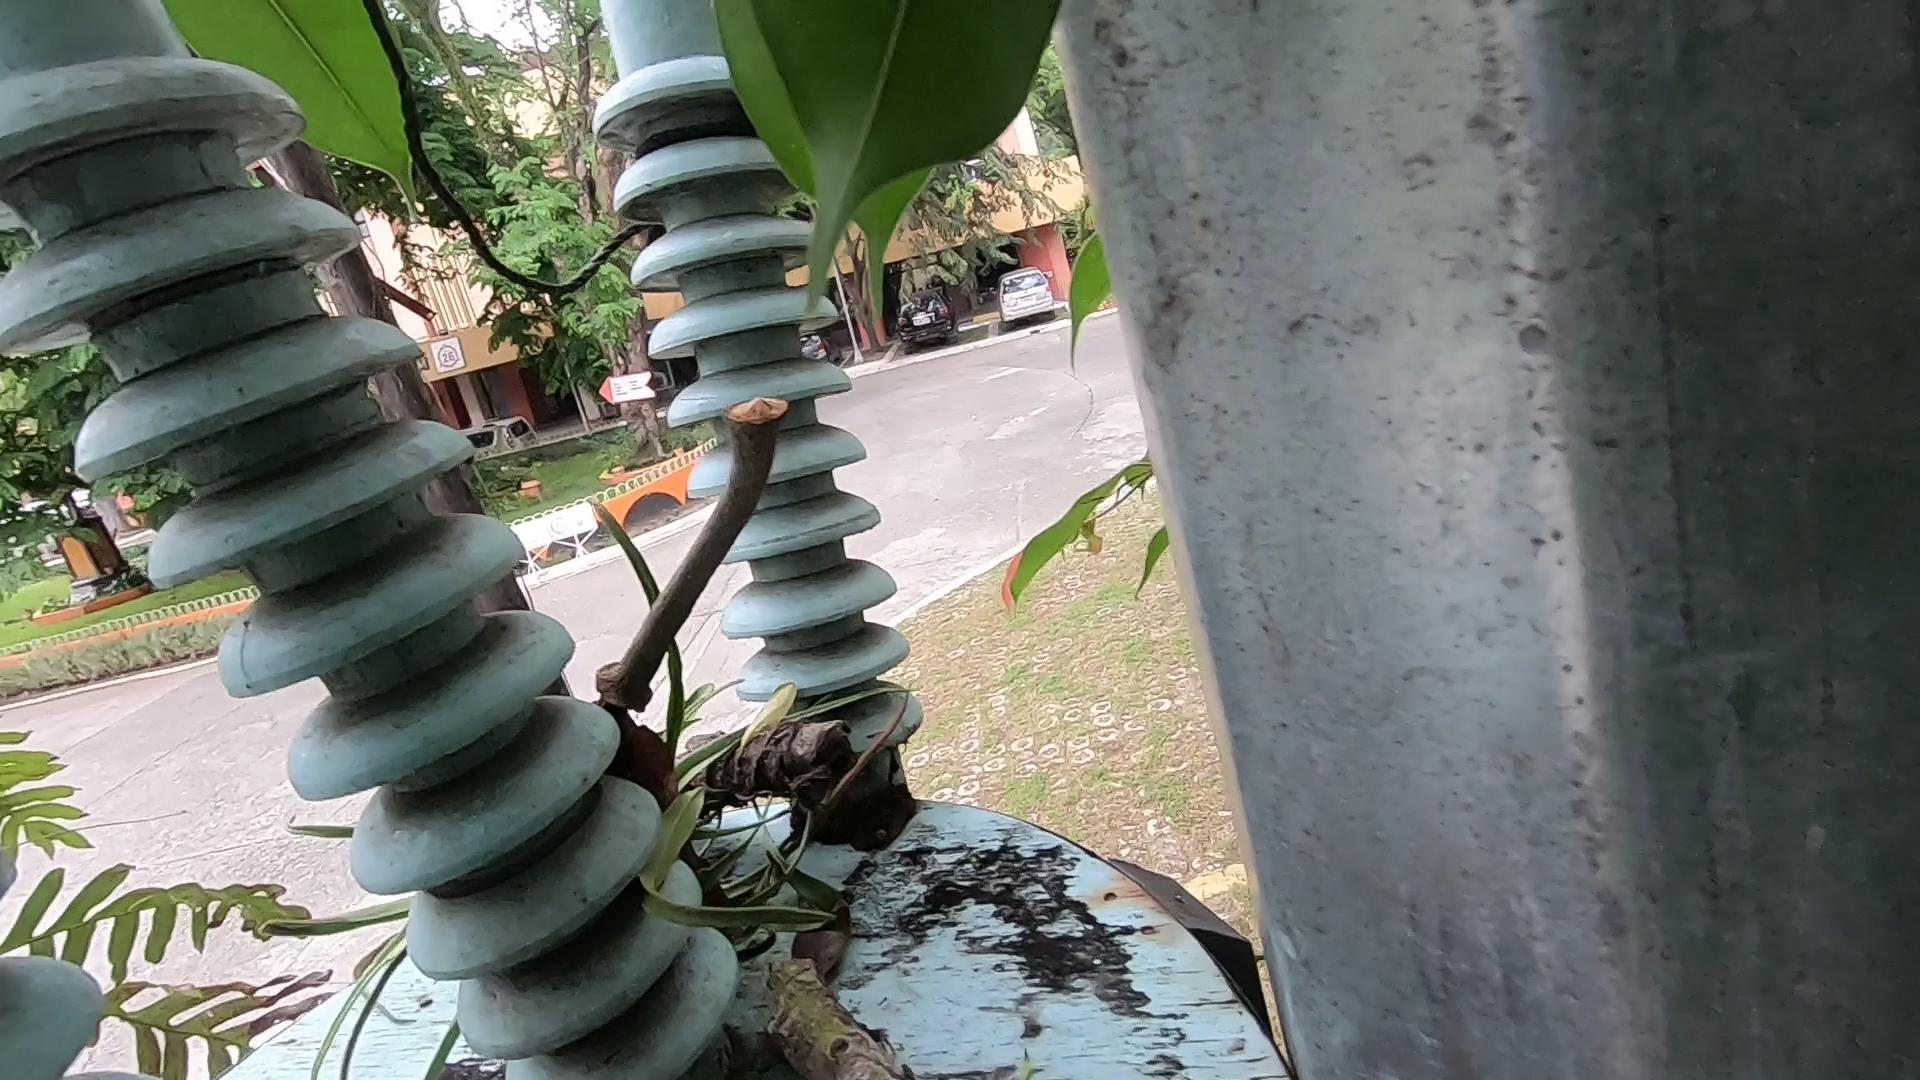branch with leaves: (560, 505, 893, 1080)
tree branch: (580, 353, 816, 781)
